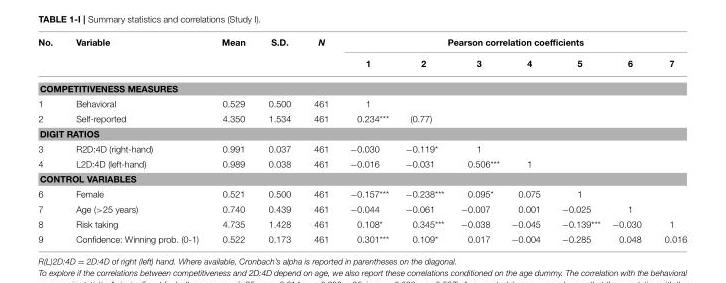table: (37, 37, 686, 243)
table column: (63, 37, 209, 243), (338, 37, 396, 243), (396, 37, 451, 243), (550, 37, 605, 243), (451, 37, 504, 243), (209, 37, 256, 243), (605, 37, 652, 243), (504, 37, 550, 243), (256, 37, 301, 243), (301, 37, 338, 243), (652, 37, 686, 243), (37, 37, 63, 243)
table column header: (37, 37, 686, 76)
table projected row header: (37, 76, 686, 96), (37, 126, 686, 141), (37, 171, 686, 186)
table row: (37, 52, 686, 76), (37, 76, 686, 96), (37, 37, 686, 52), (37, 96, 686, 111), (37, 111, 686, 126), (37, 126, 686, 141), (37, 141, 686, 156), (37, 156, 686, 171), (37, 171, 686, 186), (37, 186, 686, 201), (37, 201, 686, 216), (37, 216, 686, 231), (37, 231, 686, 243)
table spanning cell: (63, 37, 209, 76), (338, 37, 686, 52), (209, 37, 256, 76), (256, 37, 301, 76), (301, 37, 338, 76), (37, 37, 63, 76)
